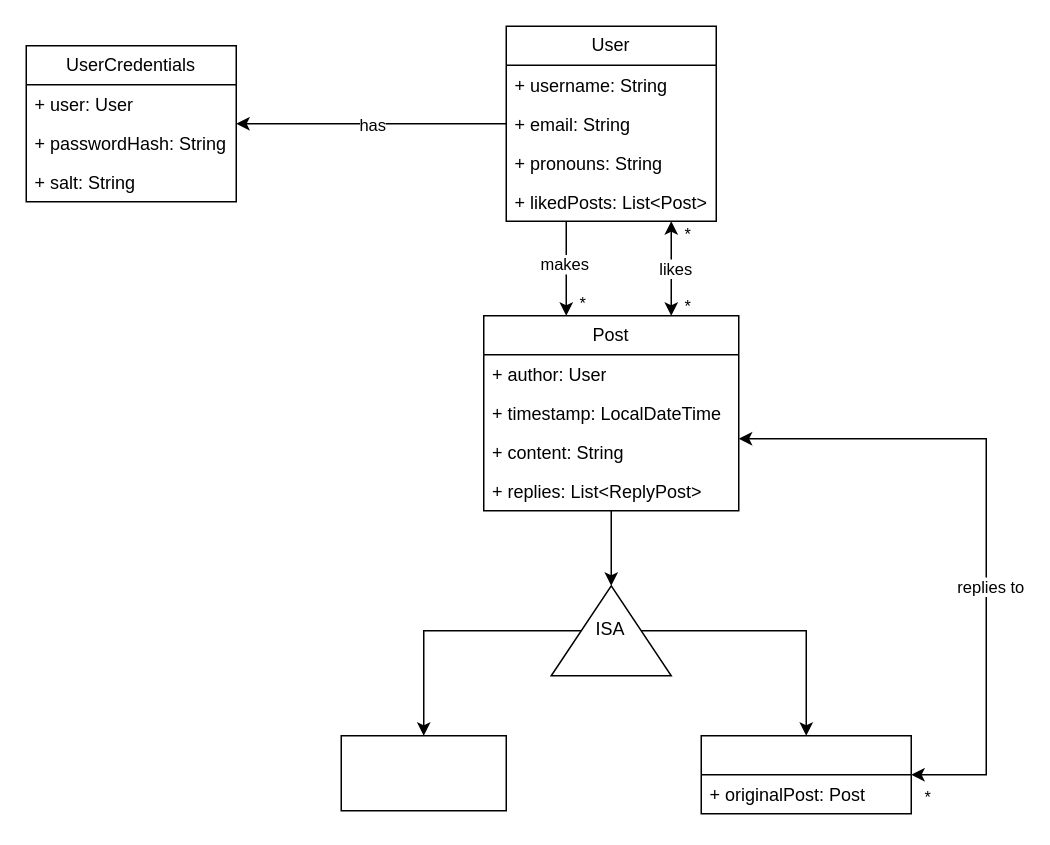
Some shapes in this 1050 by 845 pixel diagram are drawn without their labels. Each missing label, with the box of its shape:
NormalPost: (340, 734, 506, 811)
ReplyPost: (700, 734, 911, 814)
